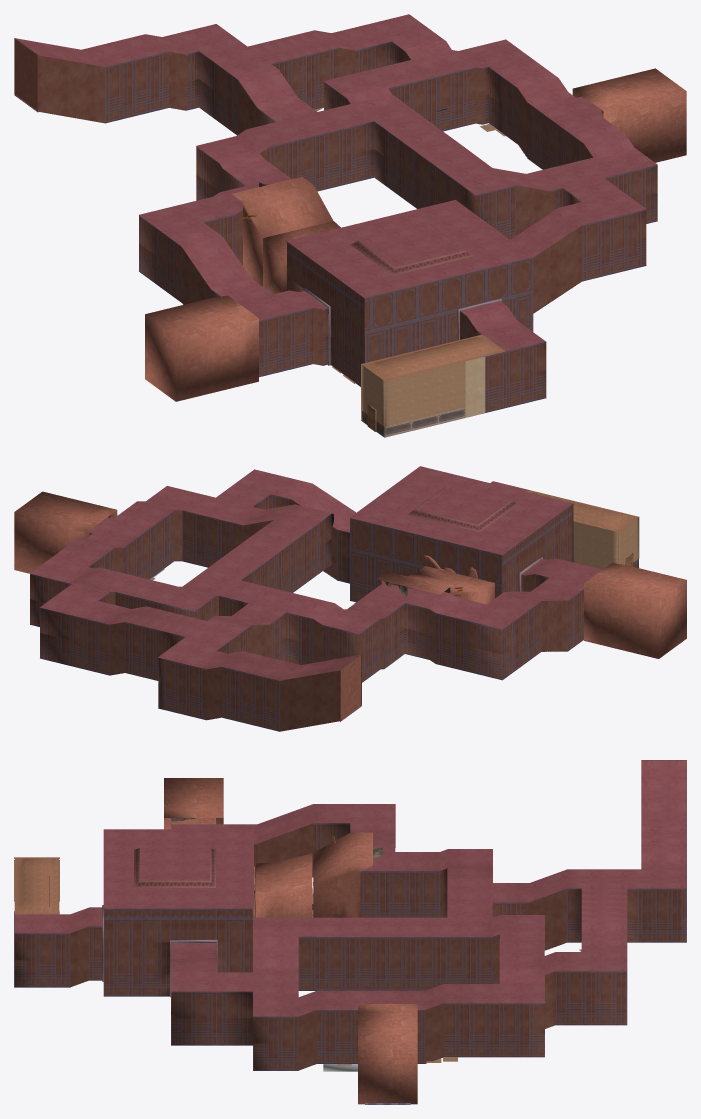
3 renders of one model, top to bottom at view 1: azimuth 30°, elevation 25°; view 2: azimuth 150°, elevation 25°; view 3: azimuth 270°, elevation 25°, orthographic. The views are drawn at different scales.
Parts seen in each view (by area): view 1: corridors; view 2: corridors; view 3: corridors.
Part boxes in pixels (x1=…): corridors: x1=14, y1=14, x2=686, y2=437; corridors: x1=14, y1=466, x2=686, y2=731; corridors: x1=14, y1=760, x2=686, y2=1104.
Bounding box in the file's own units: 23127 × 5315 × 22803.
